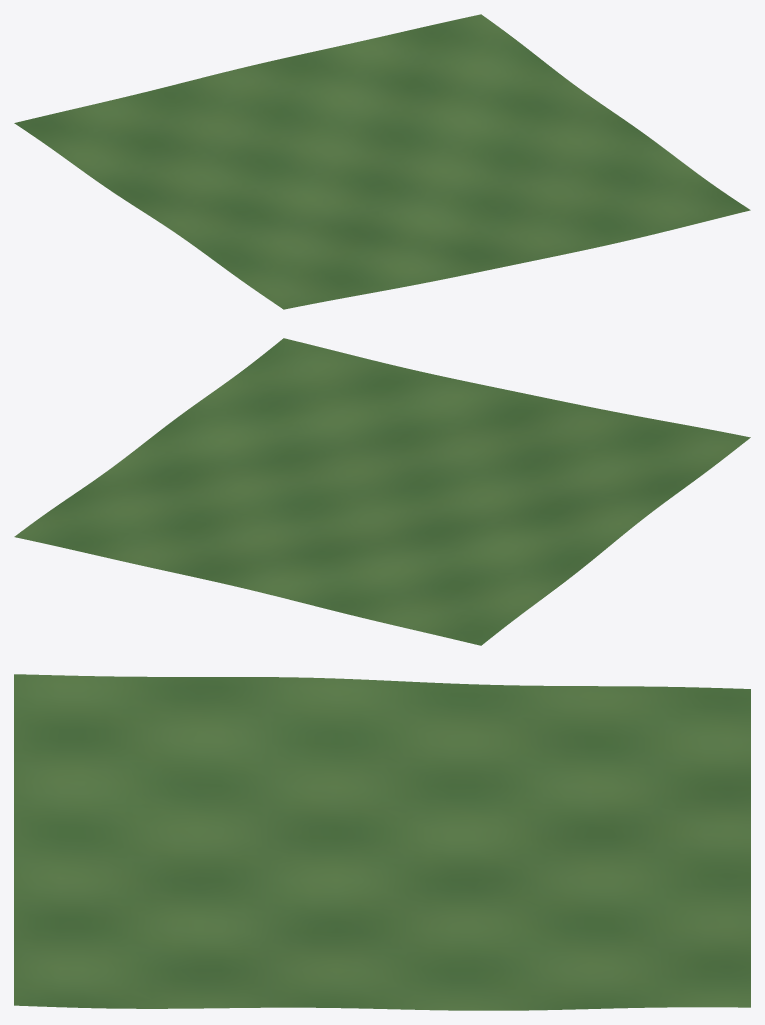
The model's file is chunk_2_6.glb.
The picture shows the model from 3 angles, top to bottom: view 1: azimuth 30°, elevation 25°; view 2: azimuth 150°, elevation 25°; view 3: azimuth 270°, elevation 25°; orthographic projection. The views are drawn at different scales.
Size of the model in its own units: 512 by 19.35 by 512.
